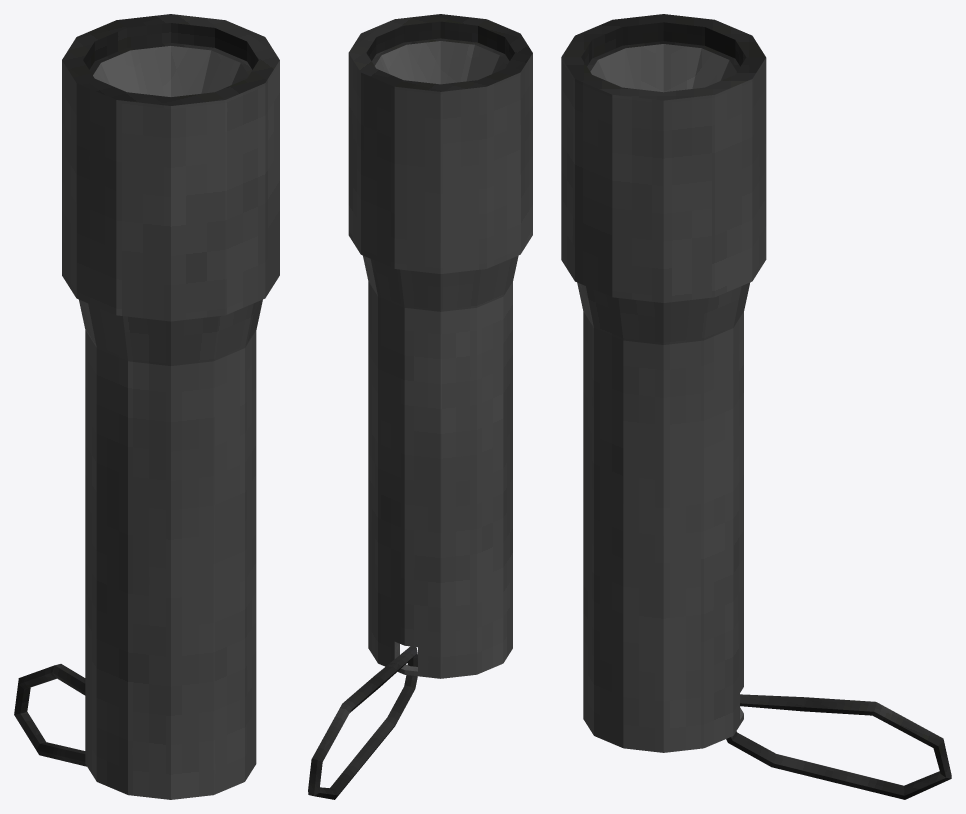
Rendered from Torch.fbx.
The picture shows the model from 3 angles, left to right: view 1: azimuth 30°, elevation 25°; view 2: azimuth 150°, elevation 25°; view 3: azimuth 270°, elevation 25°; orthographic projection. The views are drawn at different scales.
Visible parts, largest first — view 1: Torch; view 2: Torch; view 3: Torch.
Part boxes in pixels (left/top/right/bottom): Torch: left=14, top=14, right=279, bottom=799; Torch: left=308, top=14, right=532, bottom=799; Torch: left=561, top=14, right=951, bottom=799.
Size of the model in its own units: 119 by 476 by 227.
